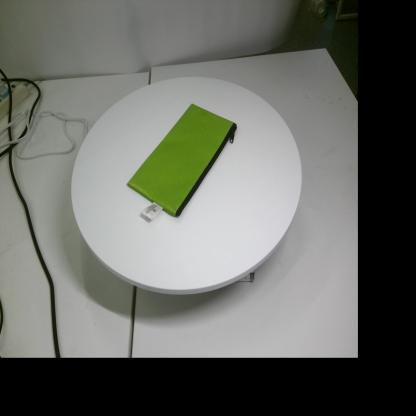Stationery: (127, 104, 237, 220)
